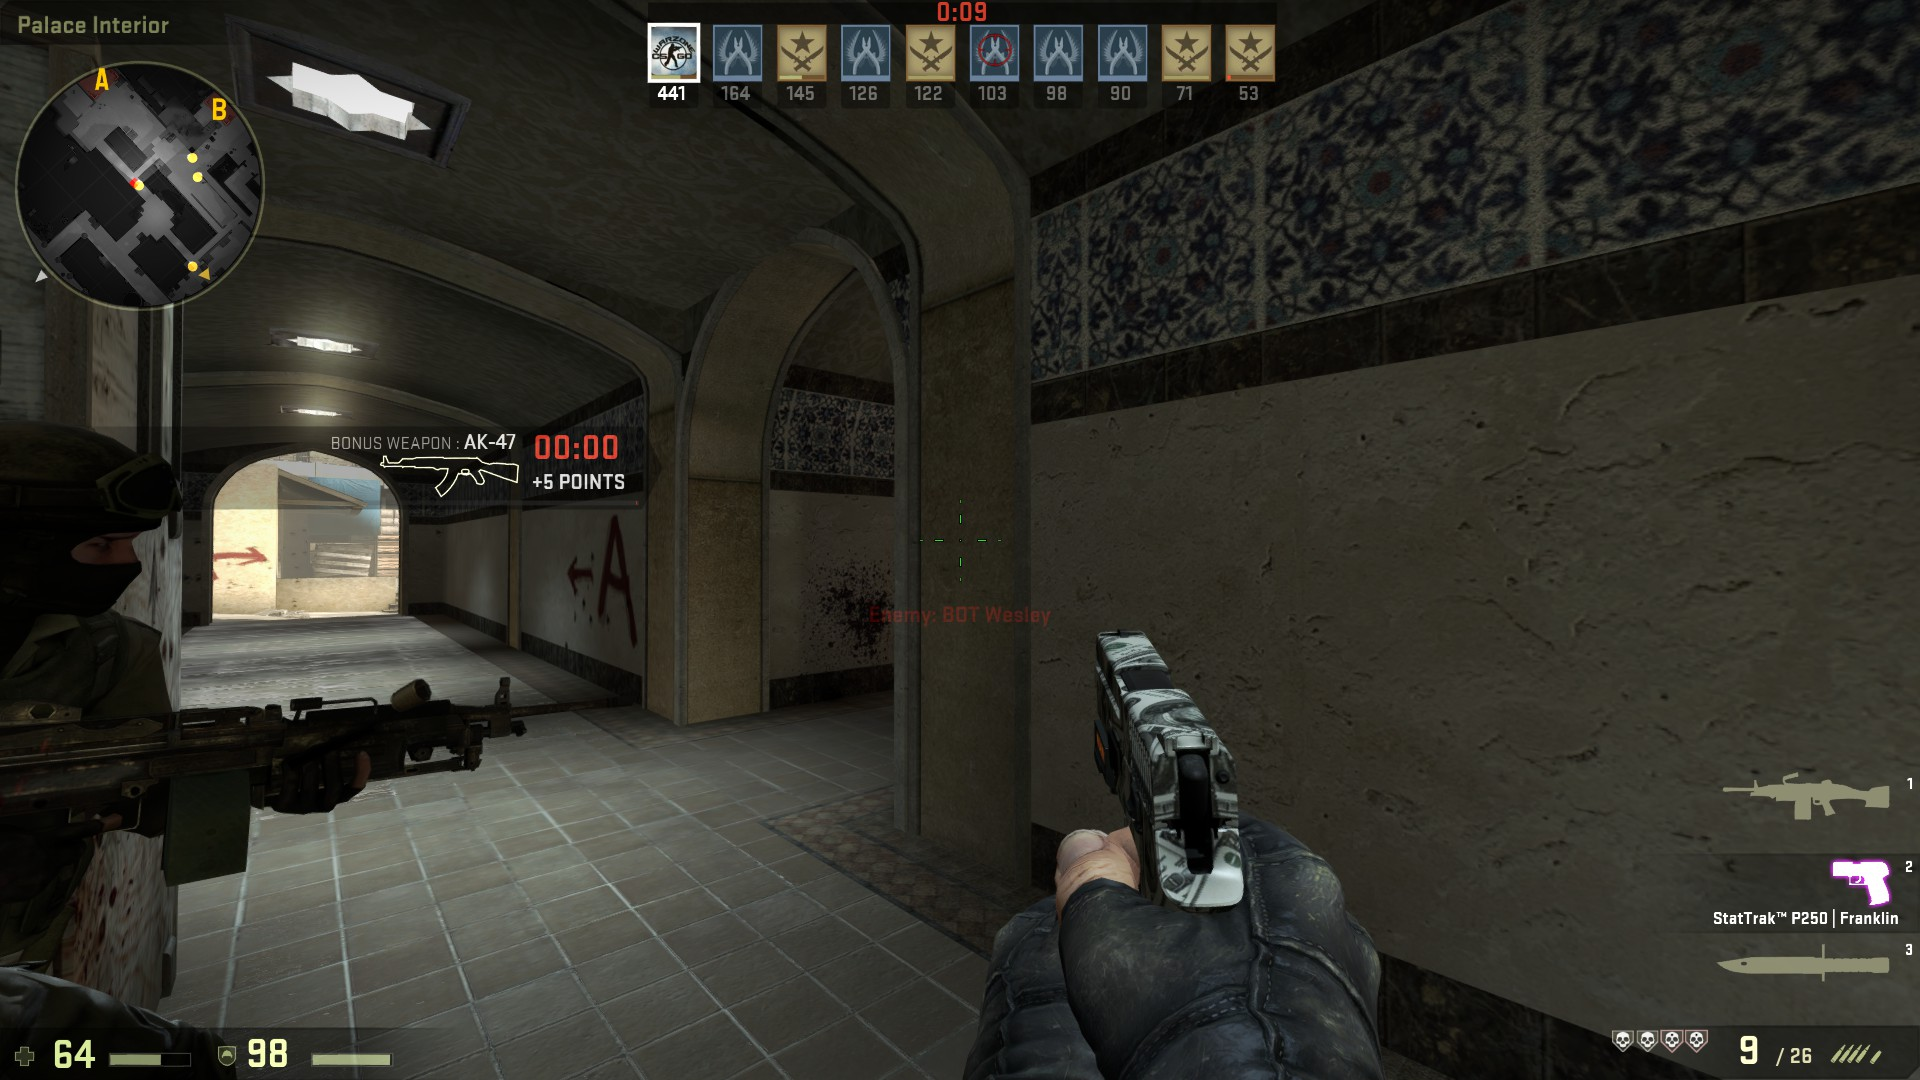c: (3, 397, 216, 1079)
ch: (1, 409, 182, 633)
